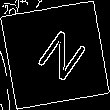N_SW: (24, 22, 86, 88)
